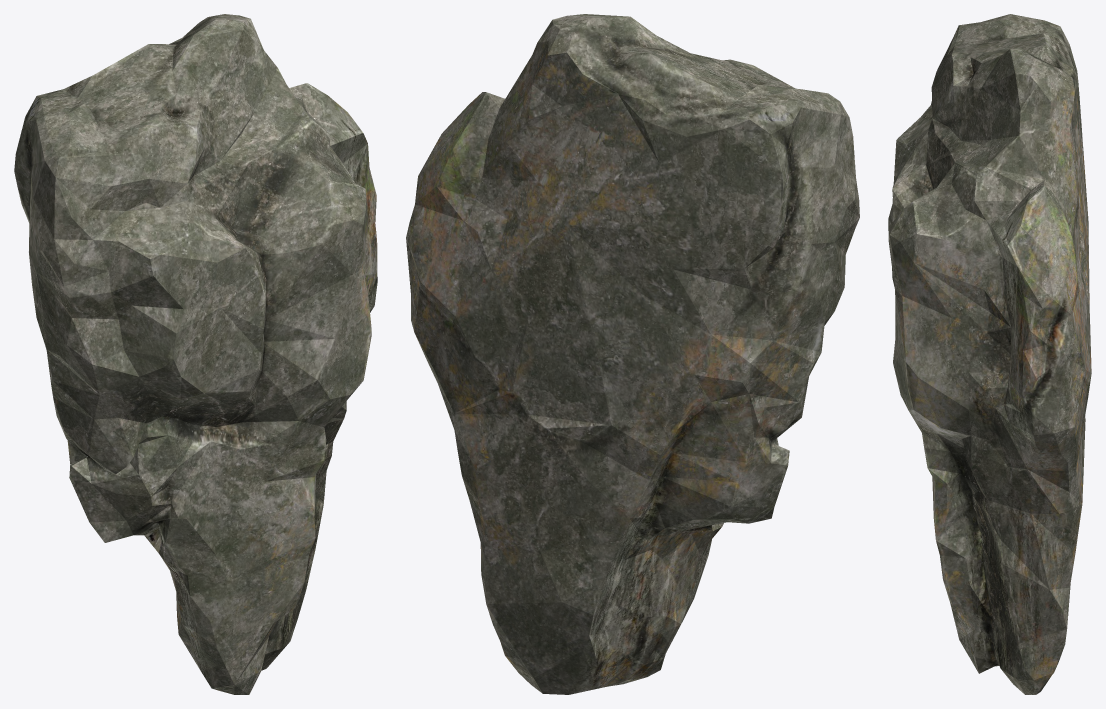
The model's file is stone_02.dae.
The picture shows the model from 3 angles, left to right: view 1: azimuth 30°, elevation 25°; view 2: azimuth 150°, elevation 25°; view 3: azimuth 270°, elevation 25°; orthographic projection. The views are drawn at different scales.
Parts seen in each view (by area): view 1: node; view 2: node; view 3: node.
Boxes of the visible parts, bbox=[...] form: node: bbox=[14, 14, 377, 694]; node: bbox=[406, 14, 859, 694]; node: bbox=[888, 14, 1091, 694].
Size of the model in its own units: 0.5976 by 1 by 0.2991.
